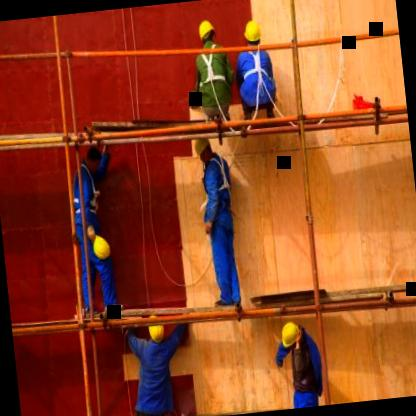head: (78, 144, 107, 182)
helmet: (276, 315, 307, 357), (239, 13, 264, 52), (192, 16, 218, 52), (143, 310, 167, 346), (190, 132, 214, 168)
